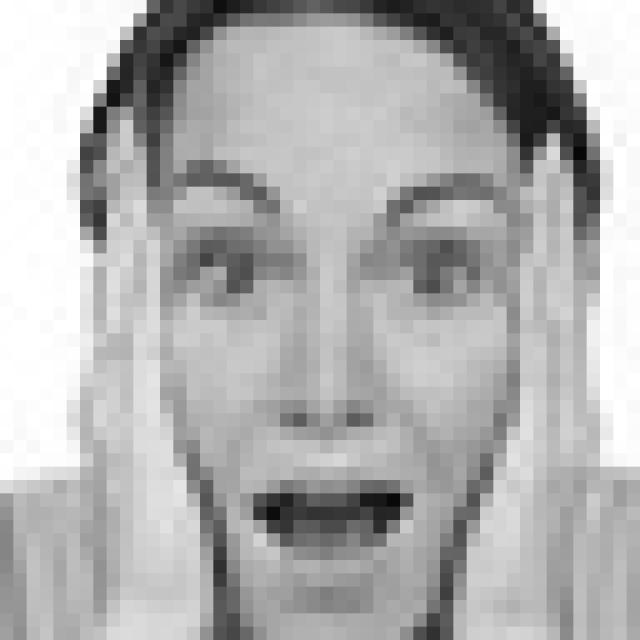surprise: (165, 149, 528, 581)
